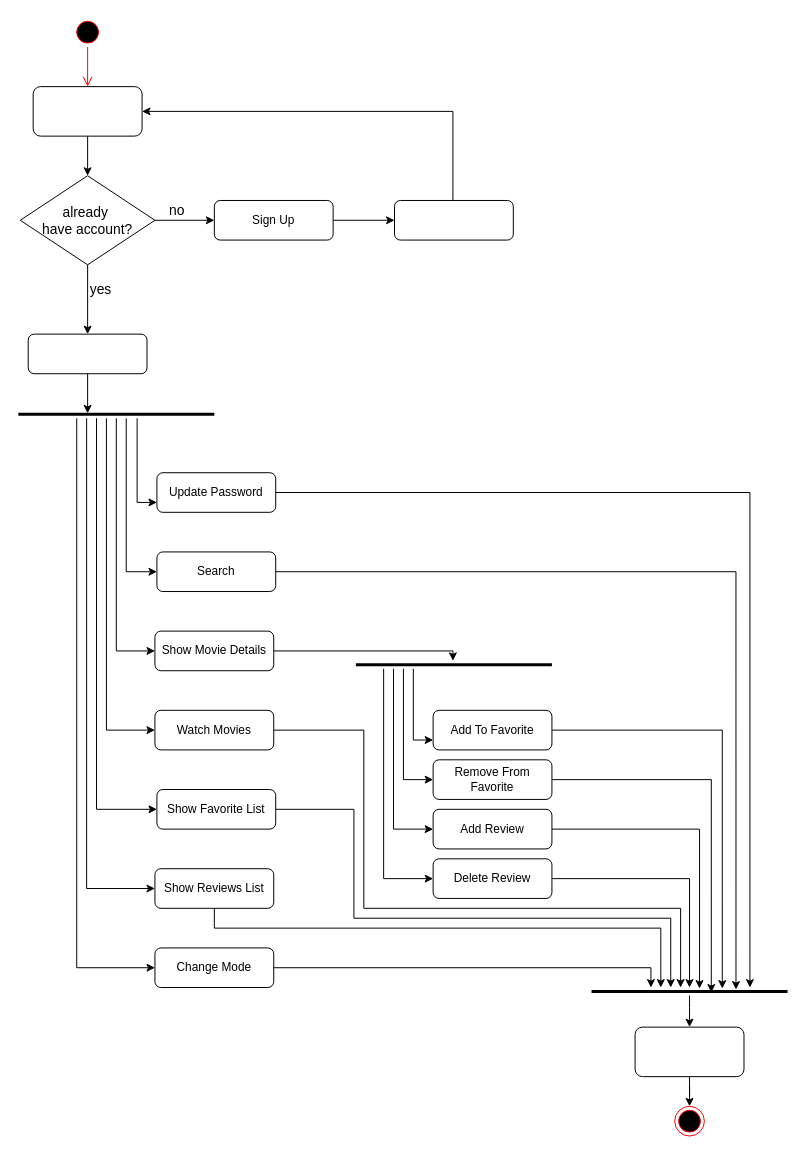
Some shapes in this 806 by 1153 pixel diagram are drawn without their labels. Here are the shapes that lost their labels. From the top down, the box of each, then its label:
(32, 86, 142, 136): Sign In
(394, 199, 513, 240): Verify User
(27, 333, 147, 374): Home Page
(634, 1026, 744, 1077): Sign Out
